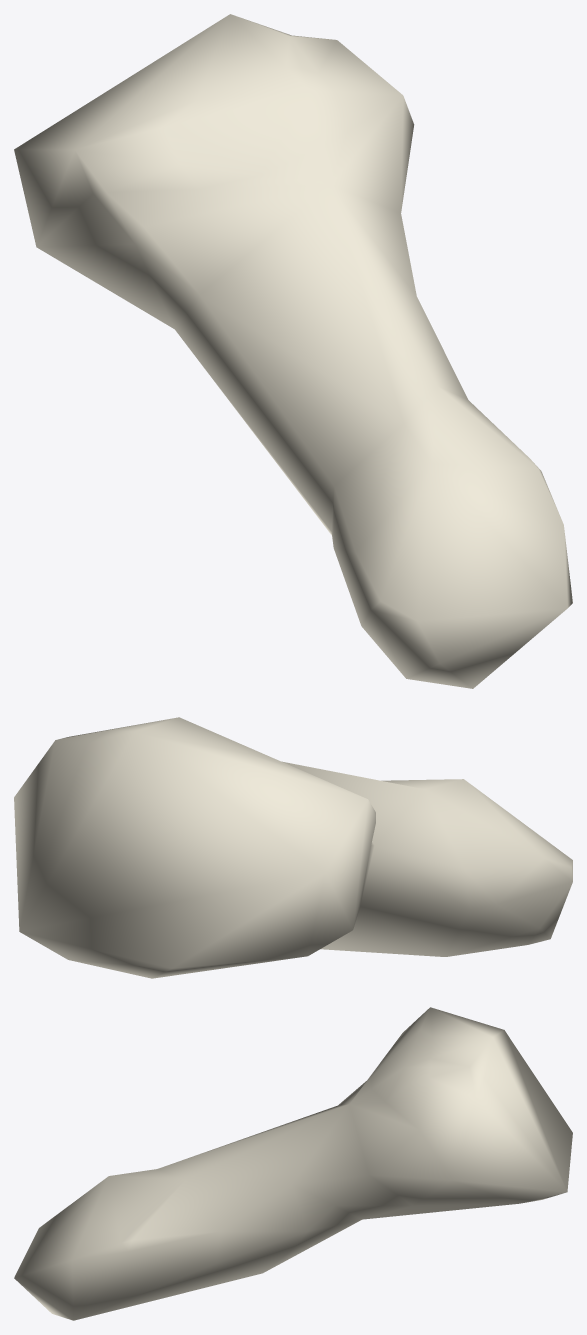
The picture shows the model from 3 angles, top to bottom: view 1: azimuth 30°, elevation 25°; view 2: azimuth 150°, elevation 25°; view 3: azimuth 270°, elevation 25°; orthographic projection. The views are drawn at different scales.
Parts seen in each view (by area): view 1: ZA_4ce81819884916bd; view 2: ZA_4ce81819884916bd; view 3: ZA_4ce81819884916bd.
Boxes of the visible parts, x1=… form: ZA_4ce81819884916bd: x1=14, y1=14, x2=572, y2=688; ZA_4ce81819884916bd: x1=14, y1=717, x2=572, y2=978; ZA_4ce81819884916bd: x1=14, y1=1007, x2=572, y2=1320.
Size of the model in its own units: 0.00861 by 0.00961 by 0.0162.
